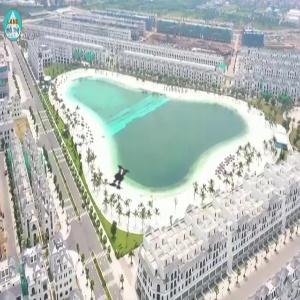drone: (91, 147, 152, 208)
